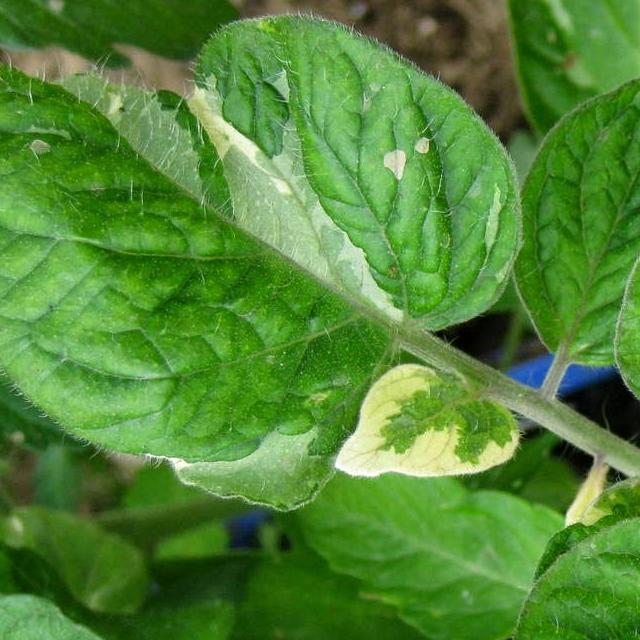Tomato leaf: (484, 503, 640, 640), (0, 554, 190, 640)
